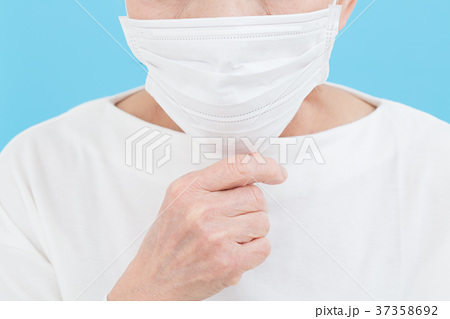mask: (133, 10, 326, 162)
